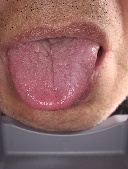tongue: (8, 46, 101, 112)
